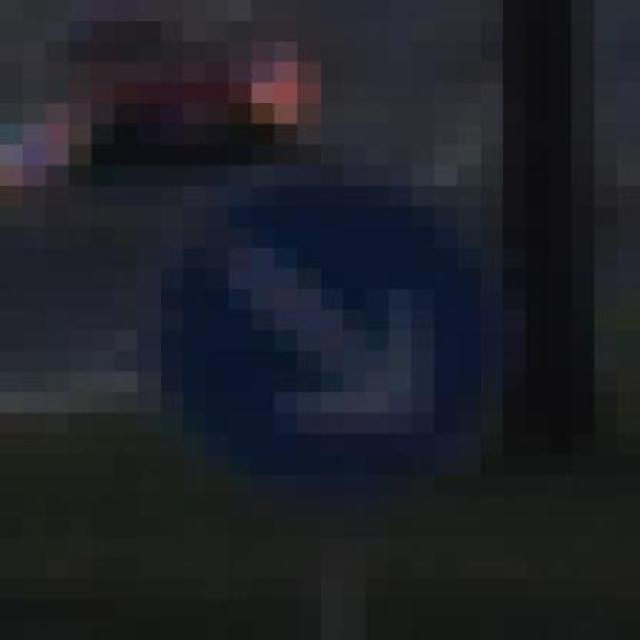Keep-Right: (137, 144, 572, 496)
